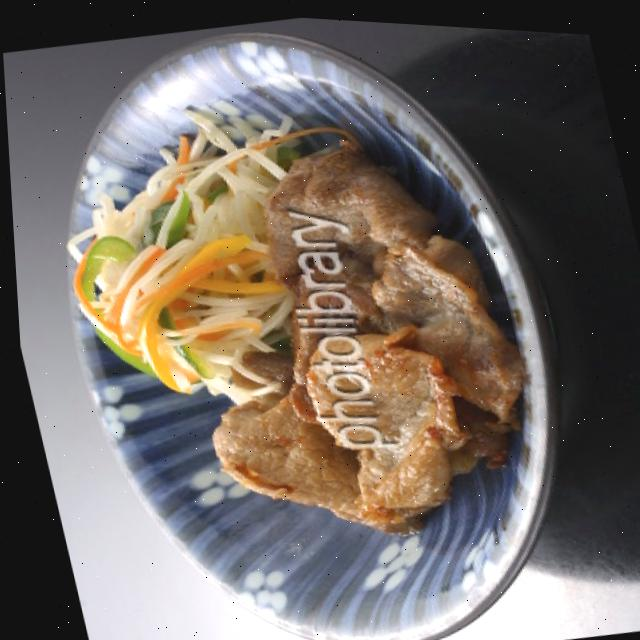猪肉菜式: (72, 85, 546, 592)
